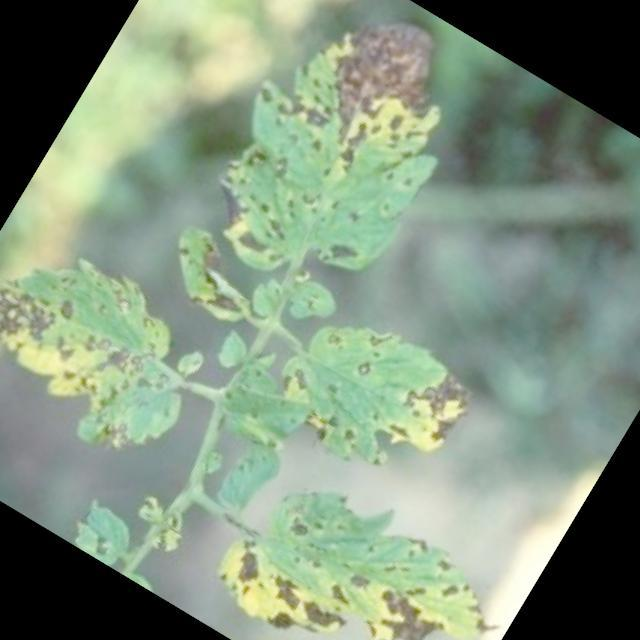Tomato Septoria spot leaf: (180, 0, 511, 328), (189, 438, 529, 640), (0, 205, 233, 487), (256, 284, 494, 511), (137, 214, 276, 344)
